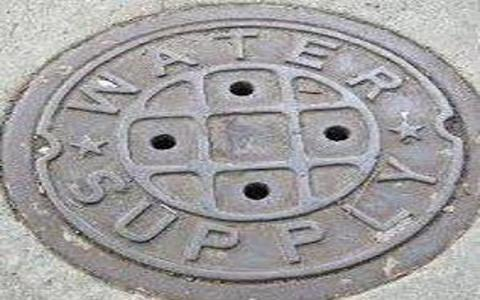proper manhole: (1, 1, 478, 297)
